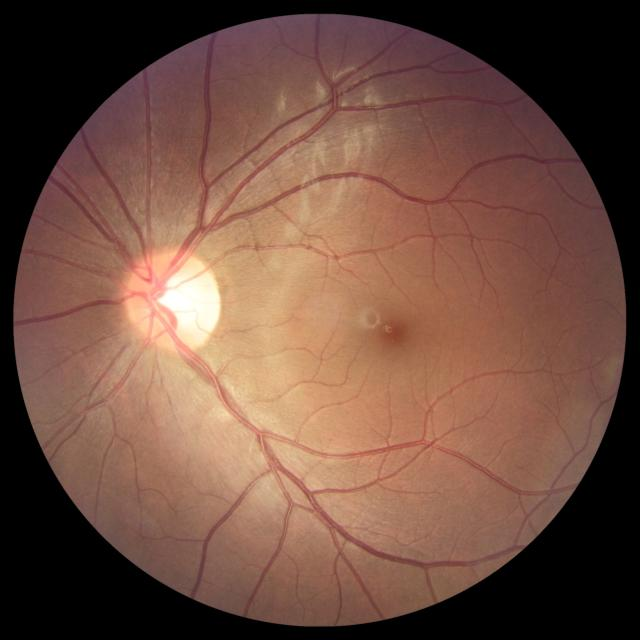OC: (148, 268, 206, 334)
OD: (125, 248, 222, 353)
